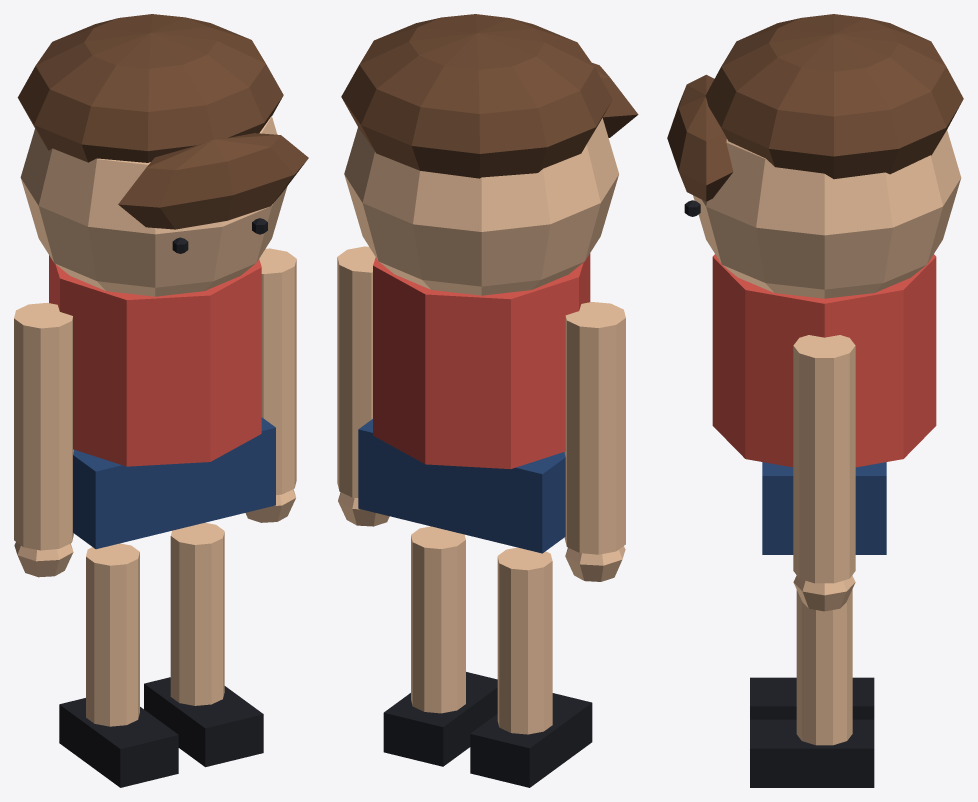
Rendered from kid.glb.
3 views of the same model, side by side, from view 1: azimuth 30°, elevation 25°; view 2: azimuth 150°, elevation 25°; view 3: azimuth 270°, elevation 25° (orthographic). The views are drawn at different scales.
Visible parts, largest first — view 1: body, arm_r, arm_l; view 2: body, arm_r, arm_l; view 3: body, arm_l.
Boxes of the visible parts, x1,y1,x2,y2 form: body: [17, 14, 308, 787]; arm_r: [14, 303, 73, 577]; arm_l: [245, 248, 296, 522]; body: [341, 14, 638, 787]; arm_r: [564, 302, 625, 581]; arm_l: [337, 246, 389, 526]; body: [667, 14, 963, 787]; arm_l: [793, 335, 855, 611].
Bounding box in the file's own units: 0.52 × 1.27 × 0.477.
